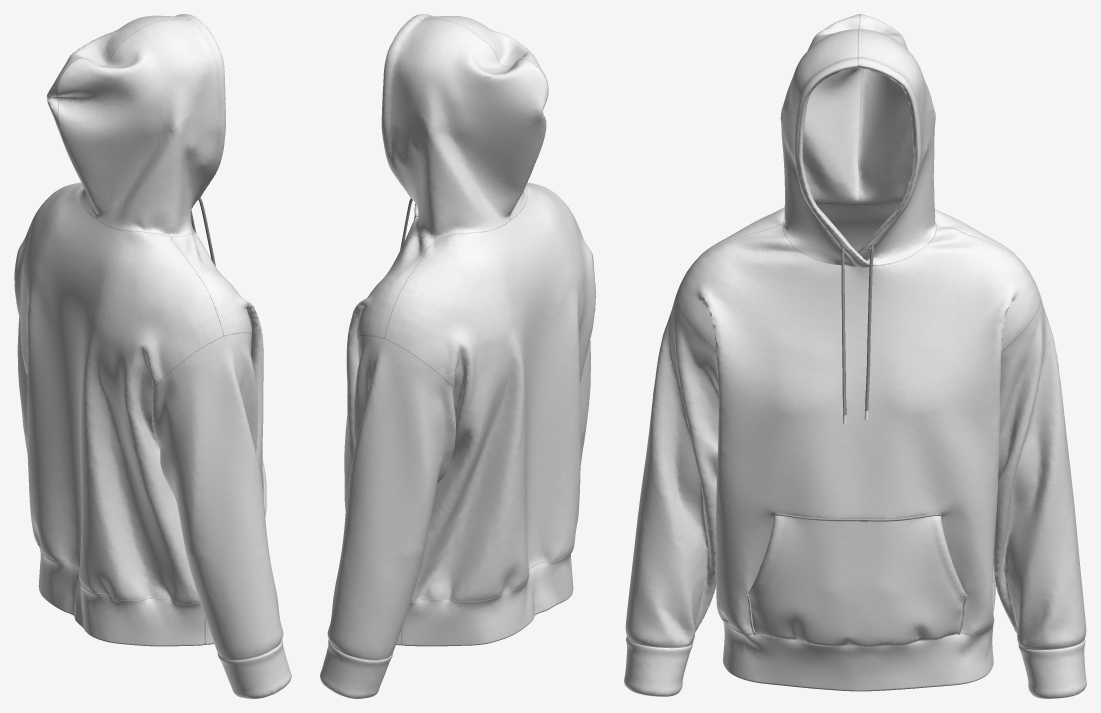
The model's file is hoodie.glb.
The picture shows the model from 3 angles, left to right: view 1: azimuth 30°, elevation 25°; view 2: azimuth 150°, elevation 25°; view 3: azimuth 270°, elevation 25°; orthographic projection. The views are drawn at different scales.
Visible parts, largest first — view 1: Object_3, Object_4, Object_5, Object_2; view 2: Object_3, Object_4, Object_5, Object_2; view 3: Object_2, Object_4, Object_5, Object_3.
Part boxes in pixels (<box>): Object_3: <box>14,184,291,698</box>; Object_4: <box>17,14,286,681</box>; Object_5: <box>18,184,279,655</box>; Object_2: <box>74,182,266,517</box>; Object_3: <box>320,184,595,698</box>; Object_4: <box>327,14,589,660</box>; Object_5: <box>393,185,594,646</box>; Object_2: <box>344,182,535,509</box>; Object_2: <box>676,66,1040,647</box>; Object_4: <box>625,14,1086,690</box>; Object_5: <box>625,209,1029,691</box>; Object_3: <box>624,66,1086,698</box>.
Bounding box in the file's own units: 0.299 × 0.9485 × 0.6058.
1 material, 1 textured.
